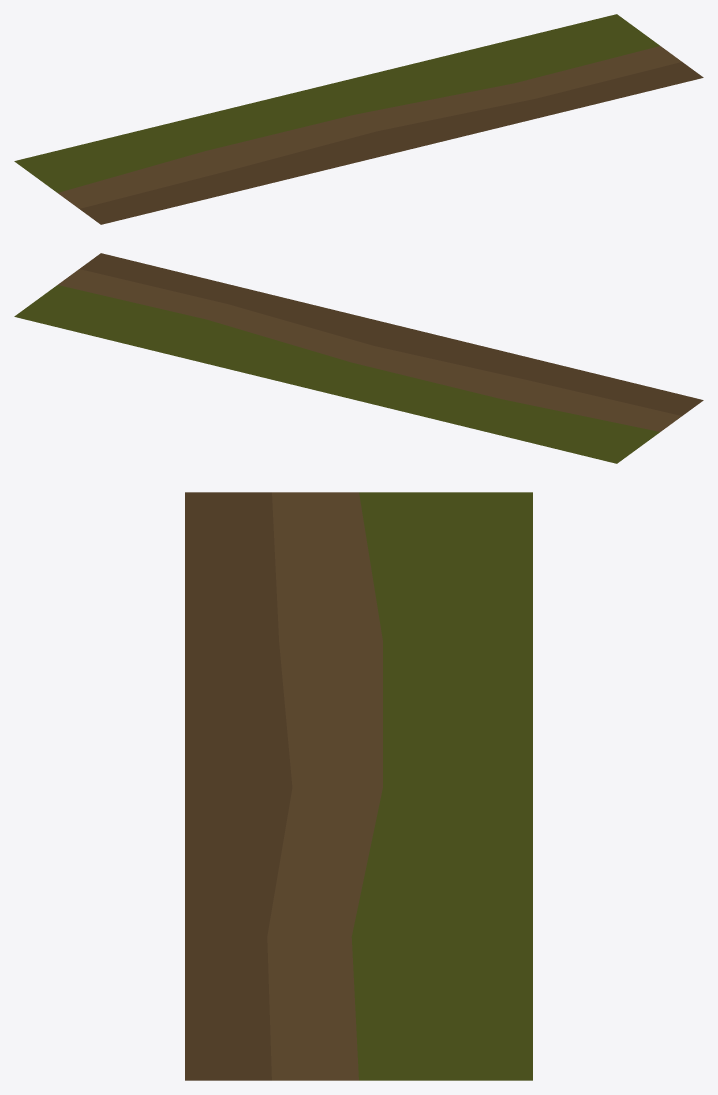
File: SM_dirtEdge_01.glb
The picture shows the model from 3 angles, top to bottom: view 1: azimuth 30°, elevation 25°; view 2: azimuth 150°, elevation 25°; view 3: azimuth 270°, elevation 25°; orthographic projection. The views are drawn at different scales.
Visible parts, largest first — view 1: SM_dirtEdge_01; view 2: SM_dirtEdge_01; view 3: SM_dirtEdge_01.
Part boxes in pixels (x1,y1,x2,y2): SM_dirtEdge_01: [14, 14, 703, 224]; SM_dirtEdge_01: [14, 253, 703, 463]; SM_dirtEdge_01: [185, 492, 532, 1080].
Bounding box in the file's own units: 16 × 2.45e-16 × 4.
1 material, 1 textured.
